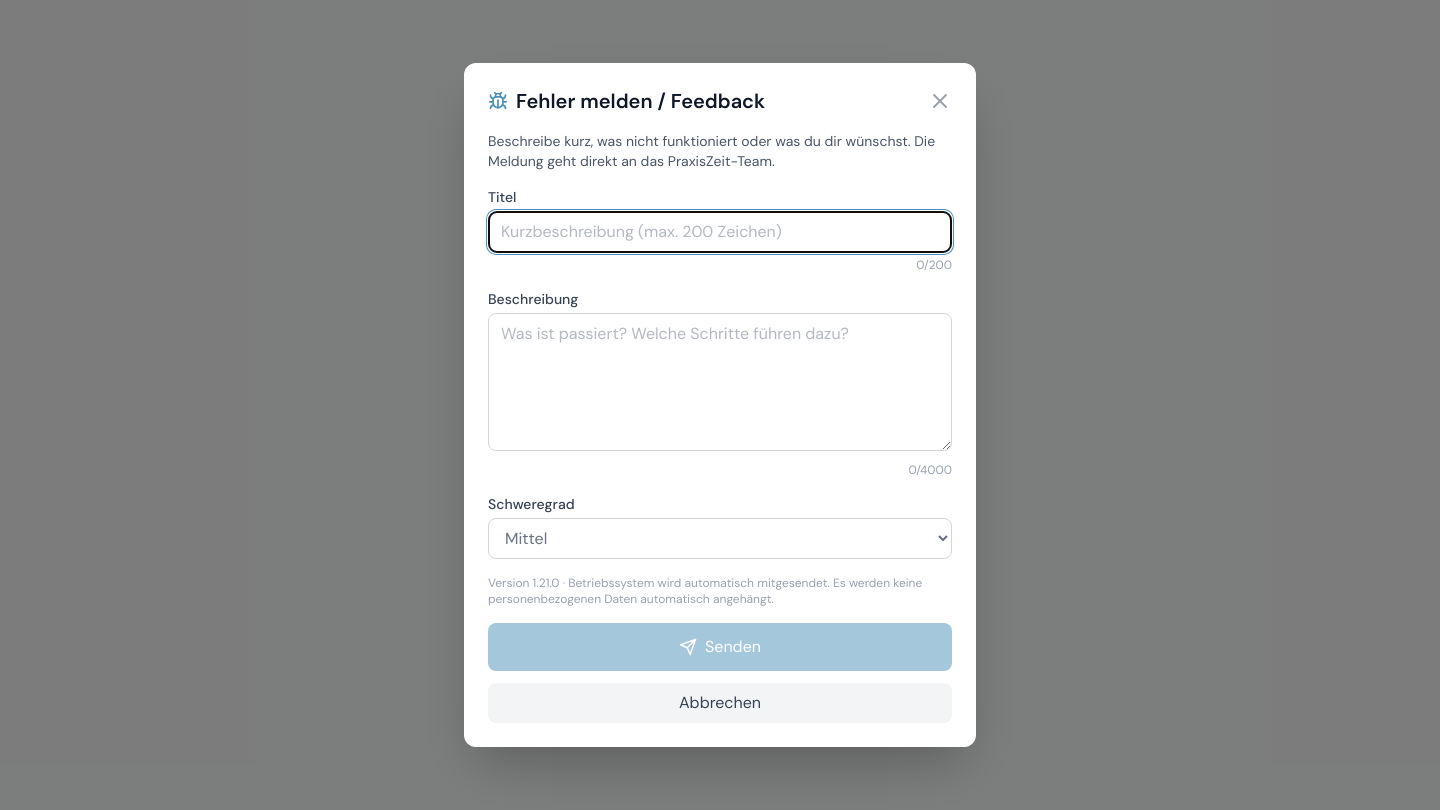
FeedbackDialog › disables submit until title AND description are filled
Expected: the button "Senden" is disabled, [488,623,952,671]
Type "nur Titel" into the field labelled "Titel" at [720, 232], box [488,211,952,253]
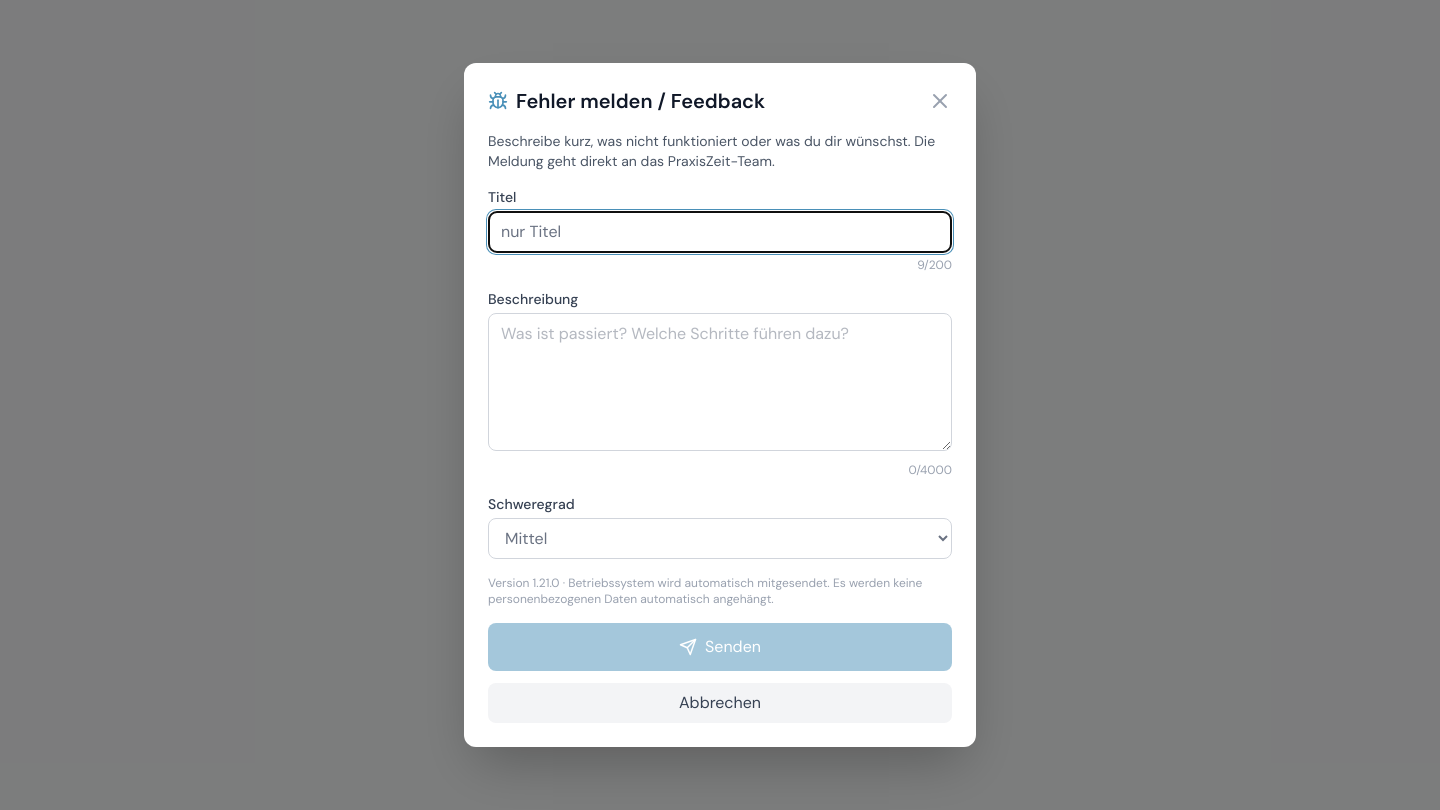
Expected: the button "Senden" is disabled, [488,623,952,671]
Type "jetzt auch Text" into the text box labelled "Beschreibung" at [720, 382], box [488,313,952,451]
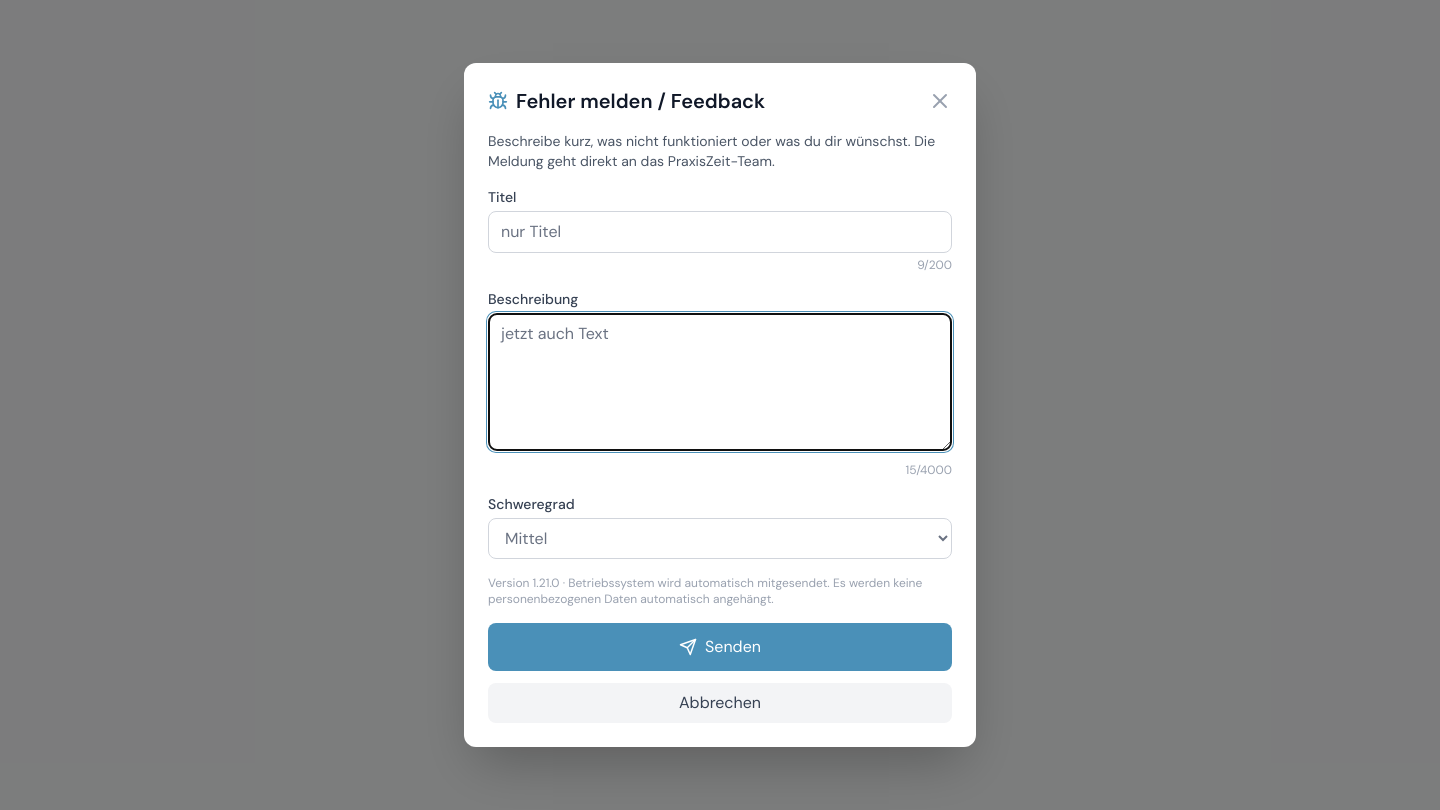
Now the button "Senden" is enabled, box [488,623,952,671]
